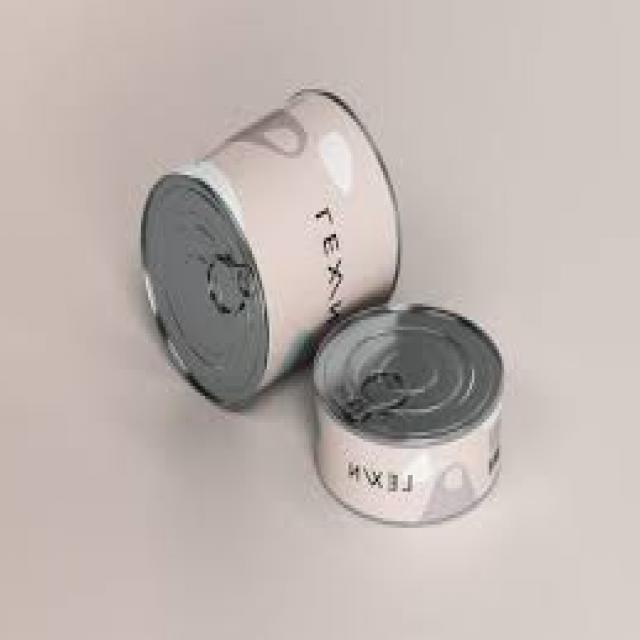metal: (140, 88, 402, 410), (312, 293, 506, 524)
